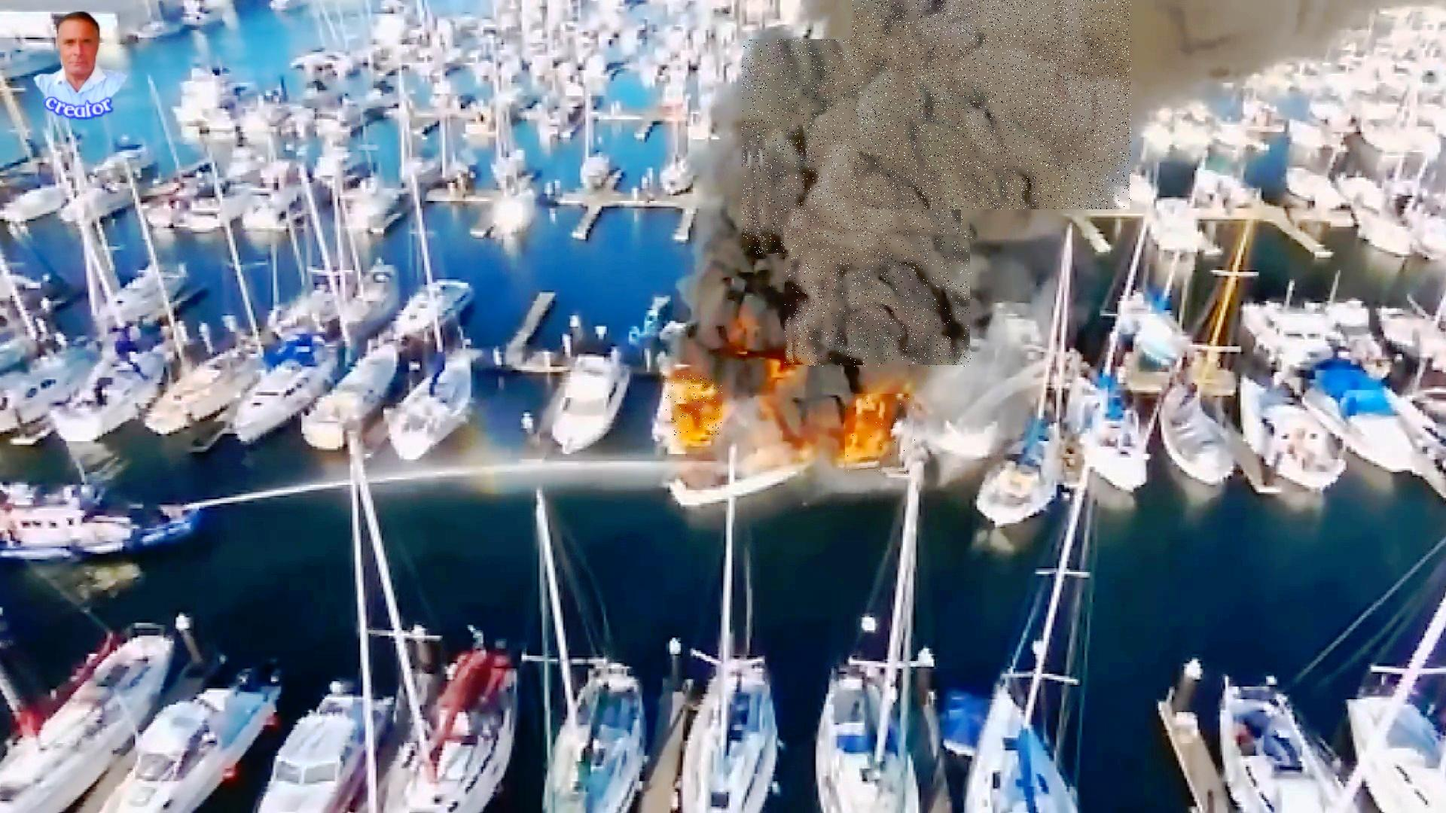fire: (846, 394, 917, 477), (665, 375, 722, 435)
smoke: (853, 0, 1132, 209), (742, 40, 963, 257), (785, 229, 972, 367)
